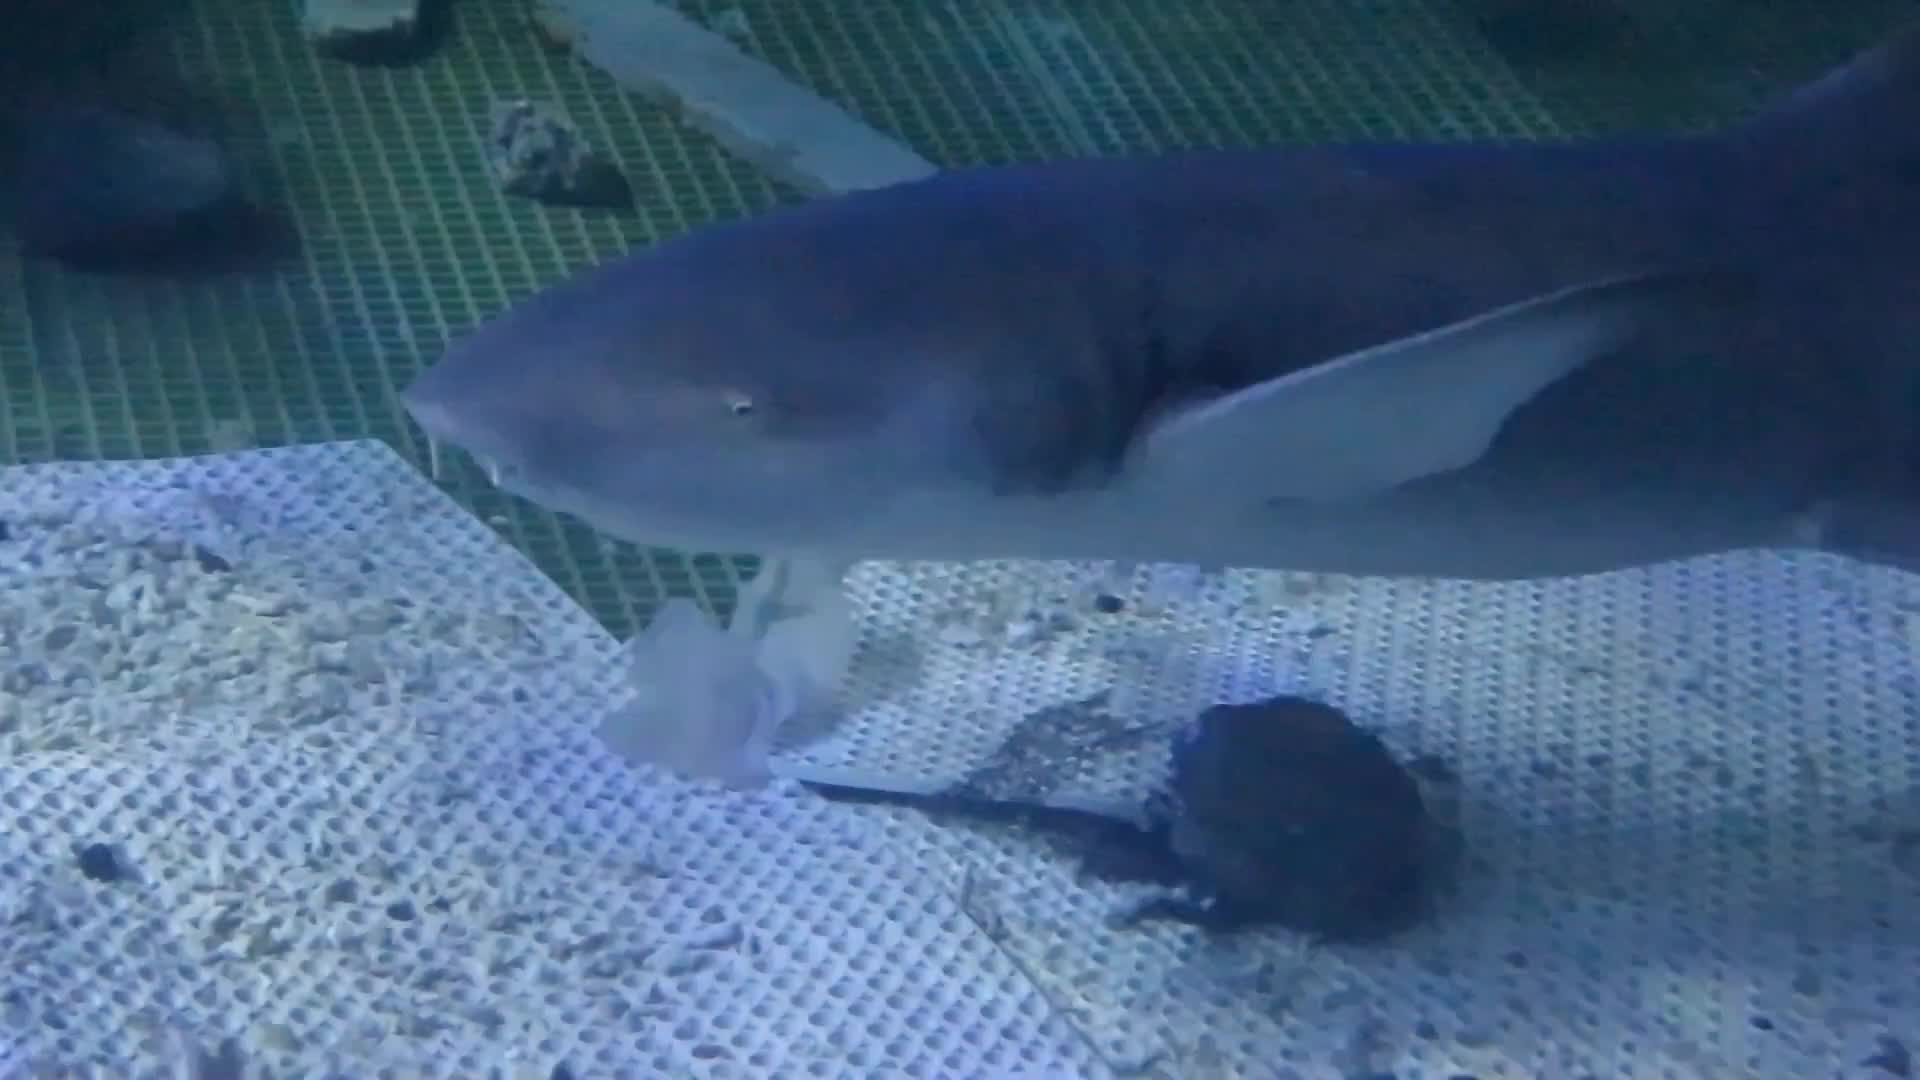Nebrius ferrugineus: (410, 128, 1919, 589)
